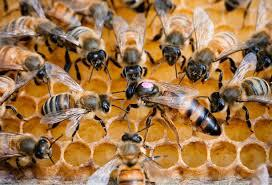Queen-Bee: (125, 78, 222, 143)
worker-bee: (180, 15, 244, 82), (94, 129, 156, 185), (37, 79, 114, 120), (54, 18, 116, 68), (204, 79, 272, 122), (157, 4, 197, 71), (1, 126, 61, 170), (122, 16, 154, 84), (0, 45, 54, 79)
